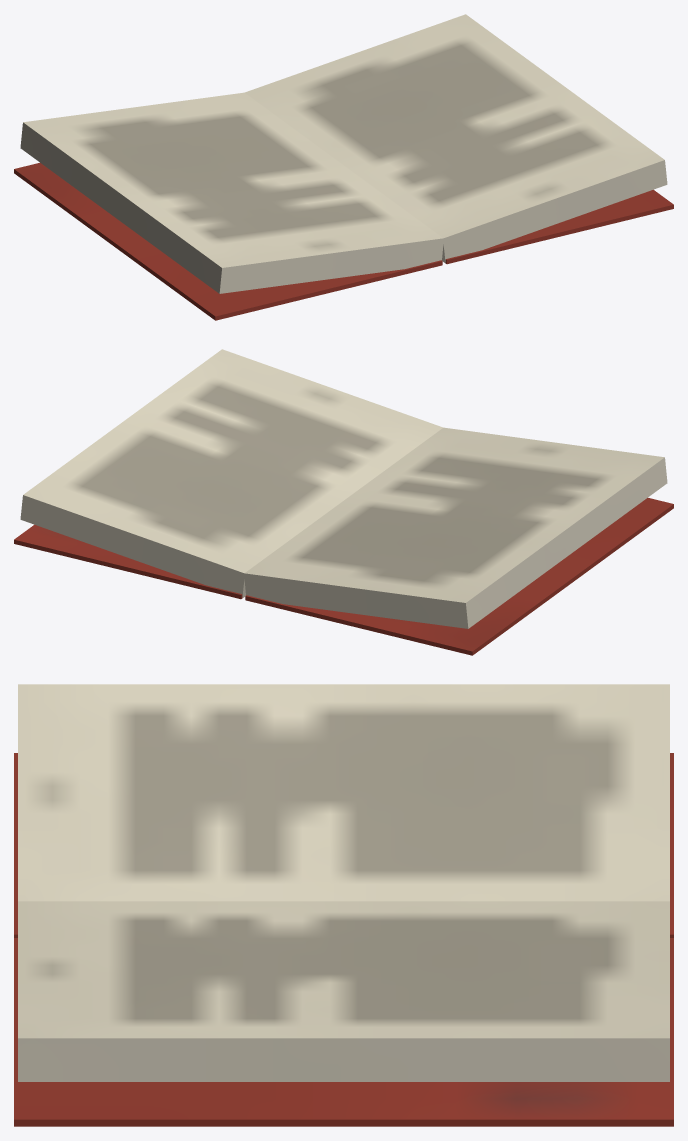
File: book_open.fbx
The picture shows the model from 3 angles, top to bottom: view 1: azimuth 30°, elevation 25°; view 2: azimuth 150°, elevation 25°; view 3: azimuth 270°, elevation 25°; orthographic projection. The views are drawn at different scales.
Parts seen in each view (by area): view 1: book_open; view 2: book_open; view 3: book_open.
Part boxes in pixels (x1,y1,x2,y2): book_open: (14,14,673,320); book_open: (14,349,673,655); book_open: (14,684,673,1126).
Bounding box in the file's own units: 0.226 × 0.0235 × 0.172.
1 material, 1 textured.
